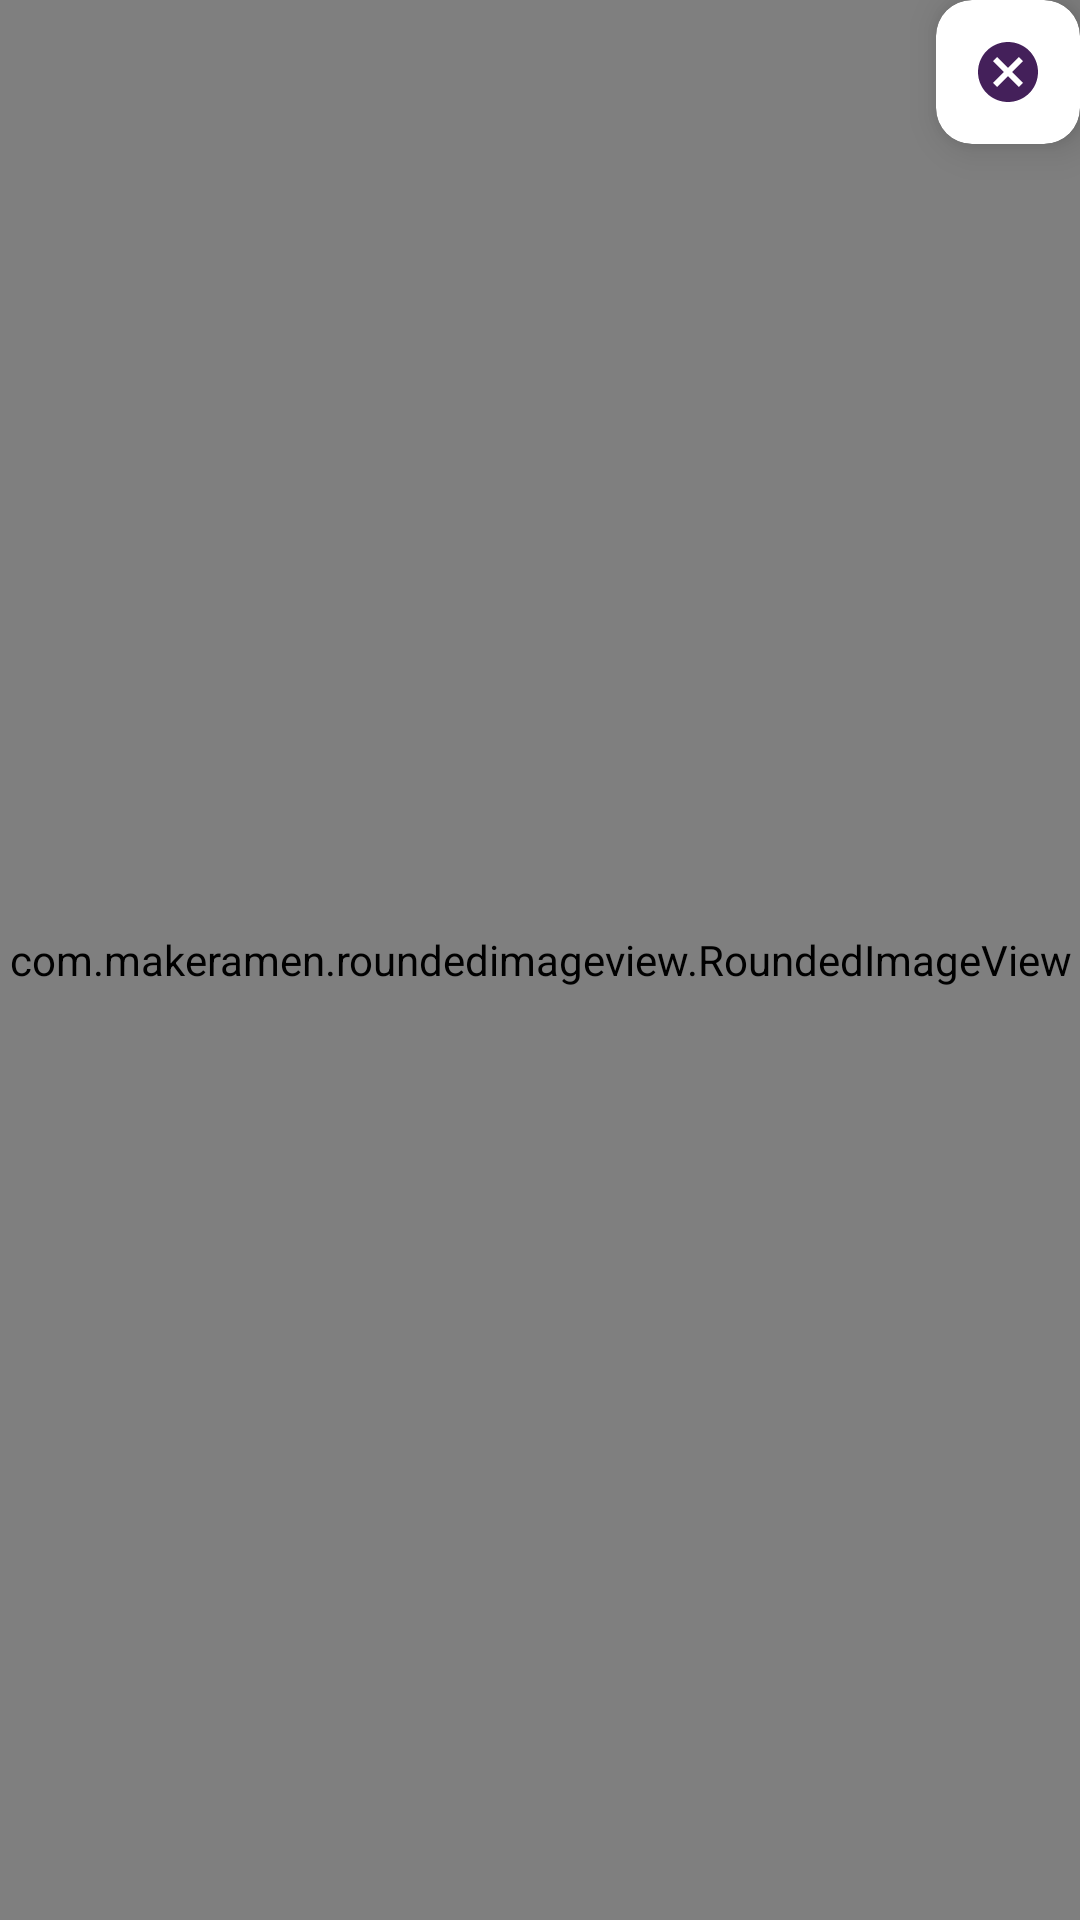

Screen size 1080w x 1920h. Icon name, then its center in pixels as (x,y):
delete: (1008,72)
